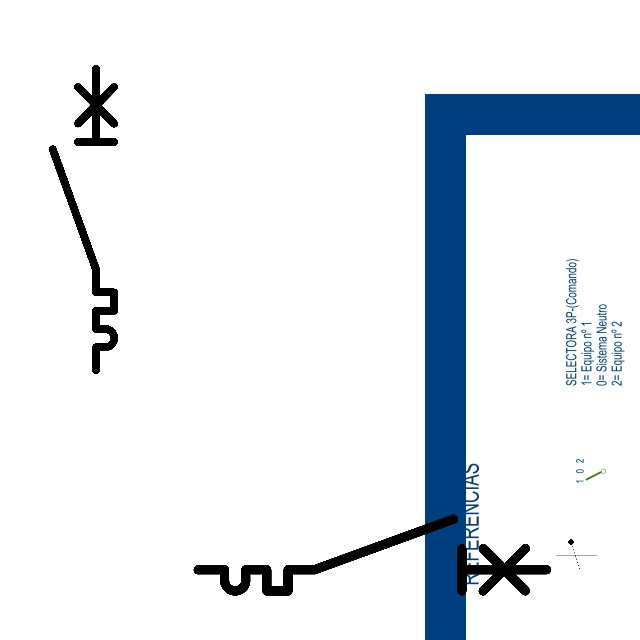interruptor_termomagnetico: (189, 510, 555, 600), (45, 61, 122, 378)
